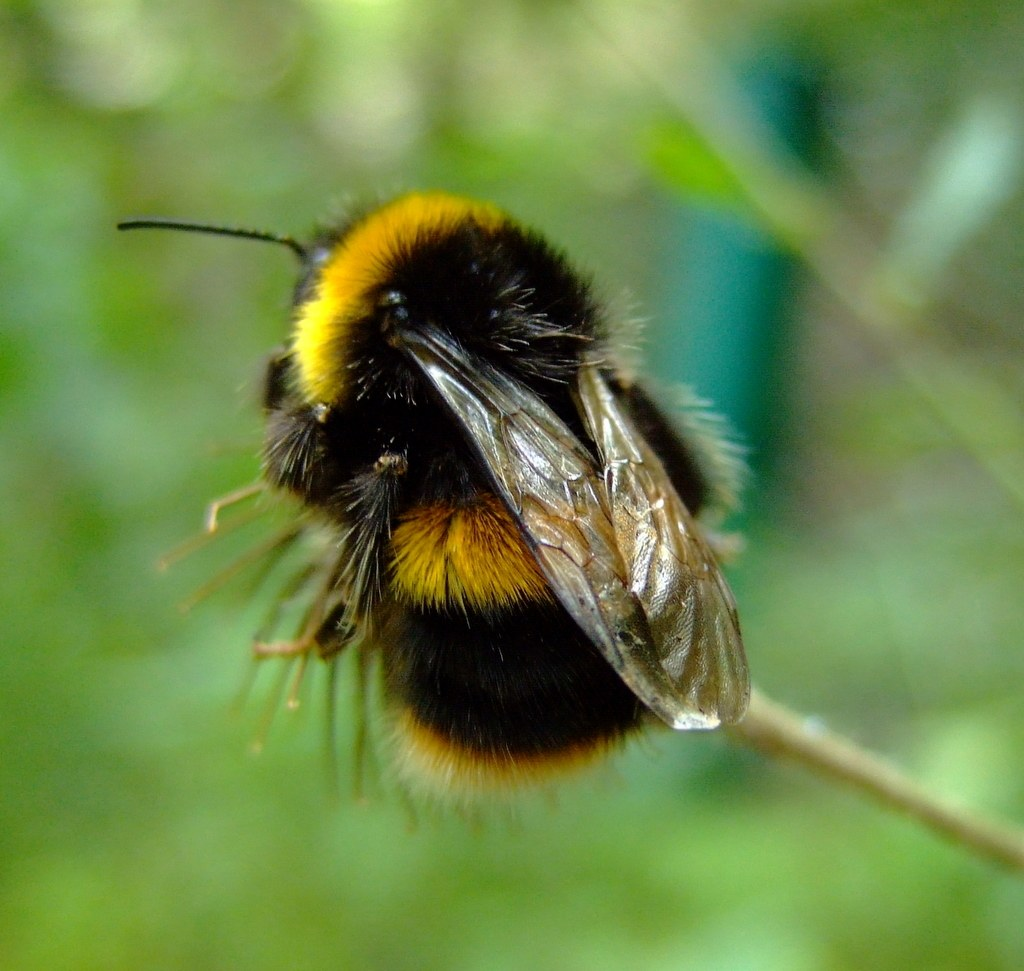bee: (120, 219, 754, 826)
